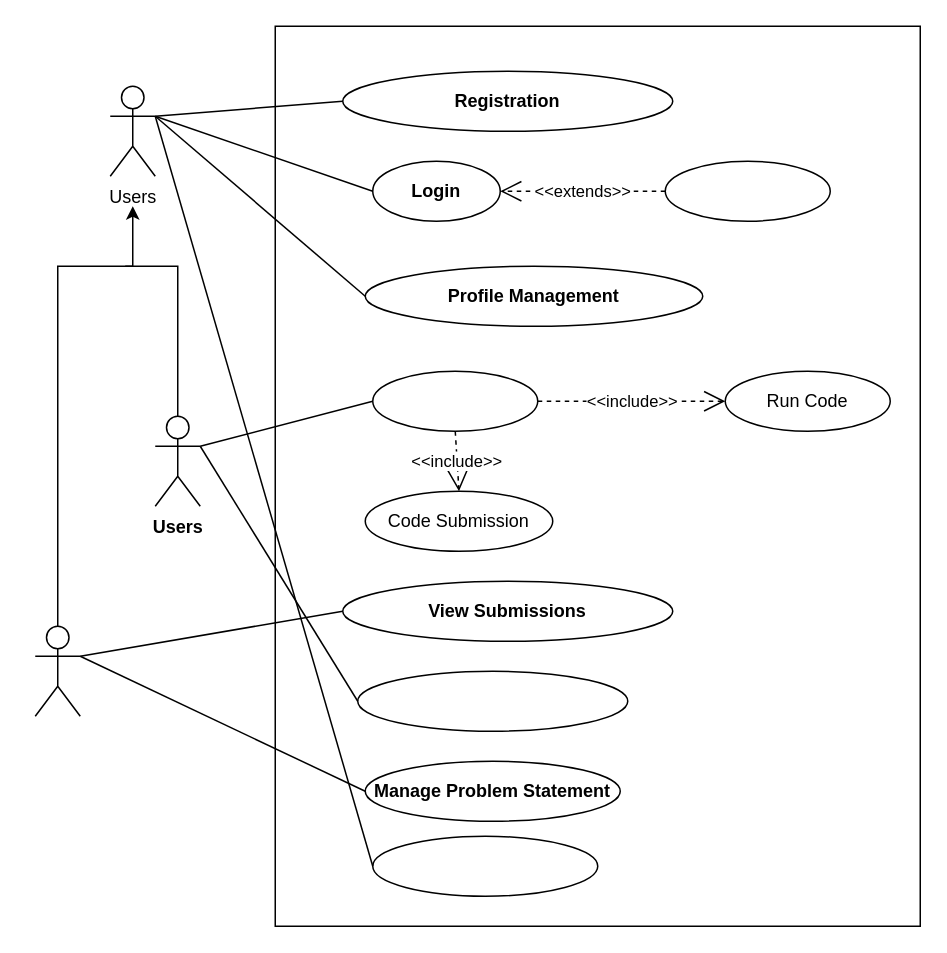
Some shapes in this 947 by 953 pixel diagram are drawn without their labels. The centre of each missing label's shape, as x and y in pixels:
Code Editor: the point at 454,400
Faculty: the point at 57,670
Logout: the point at 484,865
Reset Password: the point at 747,190
View Problem Statements: the point at 492,700
